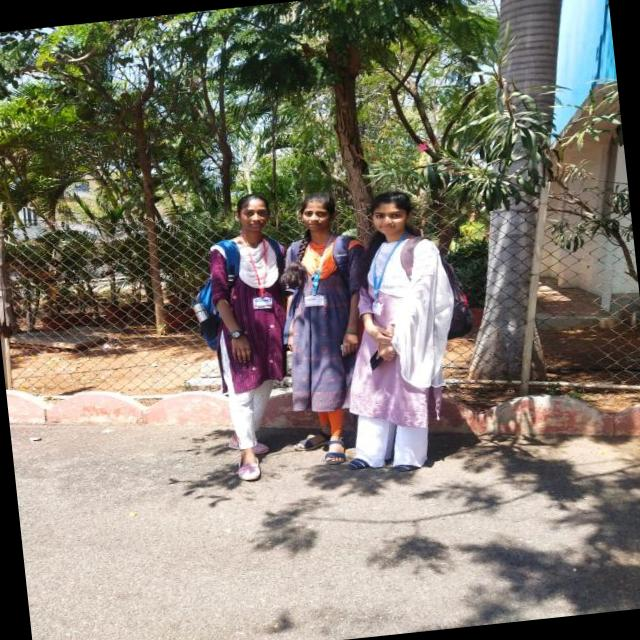id_card: (363, 237, 403, 314), (299, 237, 335, 305), (246, 236, 272, 310)
